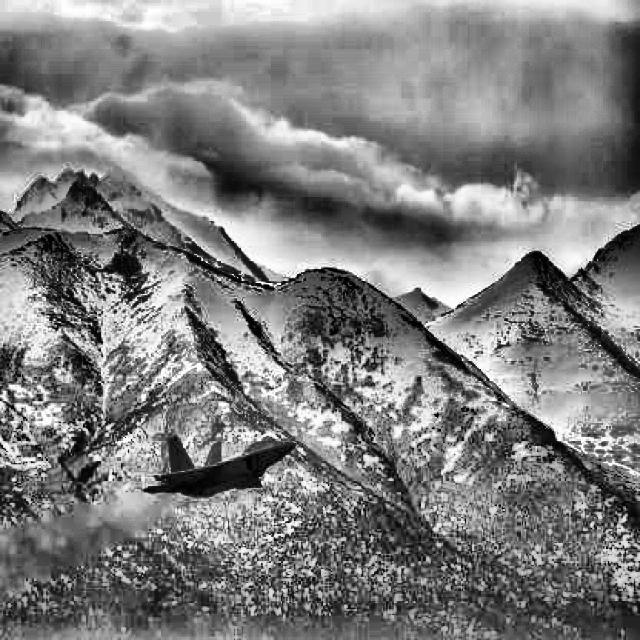F22: (142, 432, 298, 498)
